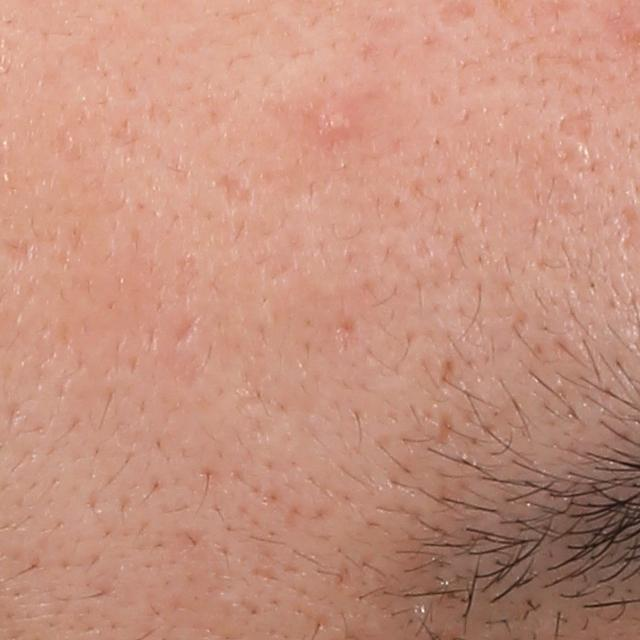atrophic_scar: (213, 175, 257, 212), (168, 310, 206, 351), (556, 106, 594, 144), (432, 411, 452, 450)
